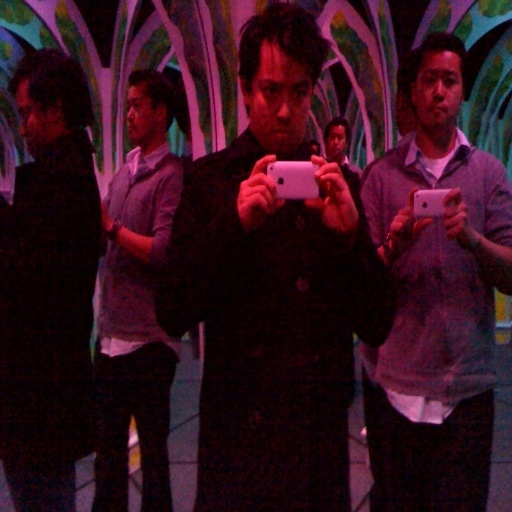hand: (238, 154, 282, 227)
